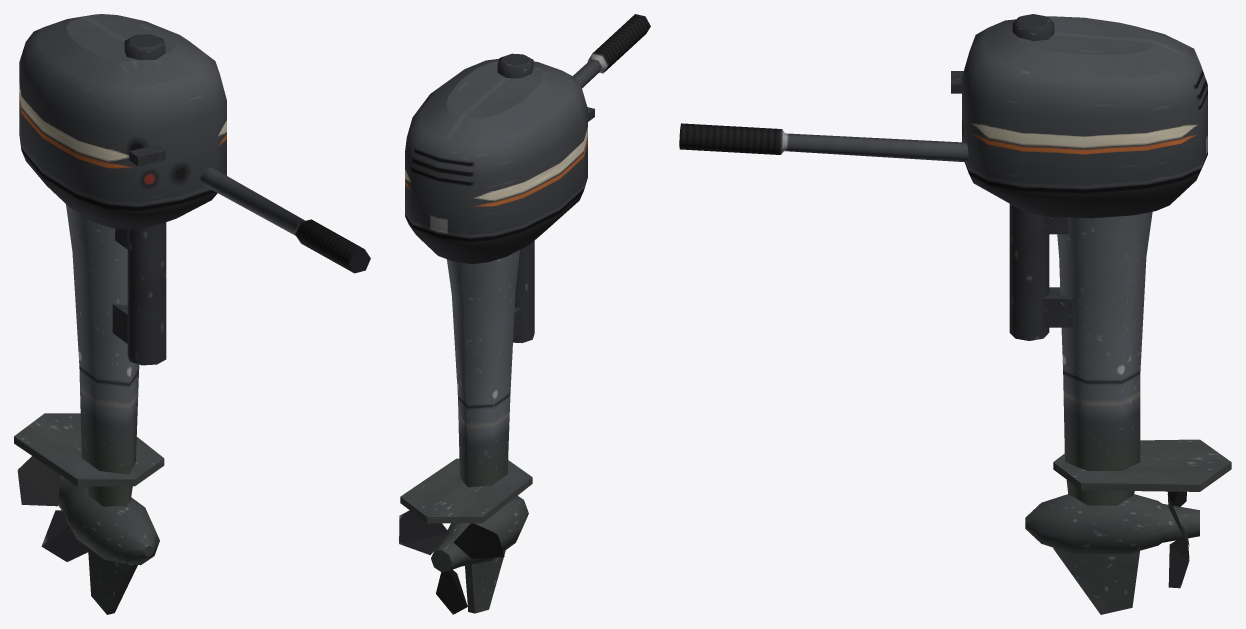
File: DinghyOutboard.glb
3 views of the same model, side by side, from view 1: azimuth 30°, elevation 25°; view 2: azimuth 150°, elevation 25°; view 3: azimuth 270°, elevation 25° (orthographic). The views are drawn at different scales.
Parts seen in each view (by area): view 1: DinghyOutboard; view 2: DinghyOutboard; view 3: DinghyOutboard.
Boxes of the visible parts, bbox=[...] form: DinghyOutboard: bbox=[14, 14, 370, 614]; DinghyOutboard: bbox=[399, 14, 650, 614]; DinghyOutboard: bbox=[679, 14, 1231, 614].
Size of the model in its own units: 0.88 by 3.3 by 2.79.
1 material, 1 textured.
